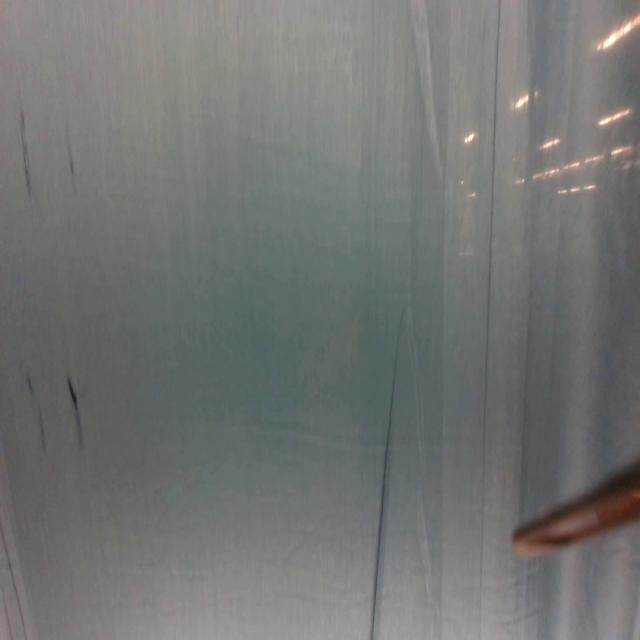crease: (477, 0, 503, 638), (370, 301, 408, 640), (410, 0, 445, 180), (0, 514, 28, 640)
hole: (67, 372, 86, 450), (19, 108, 33, 196), (64, 129, 78, 187)
